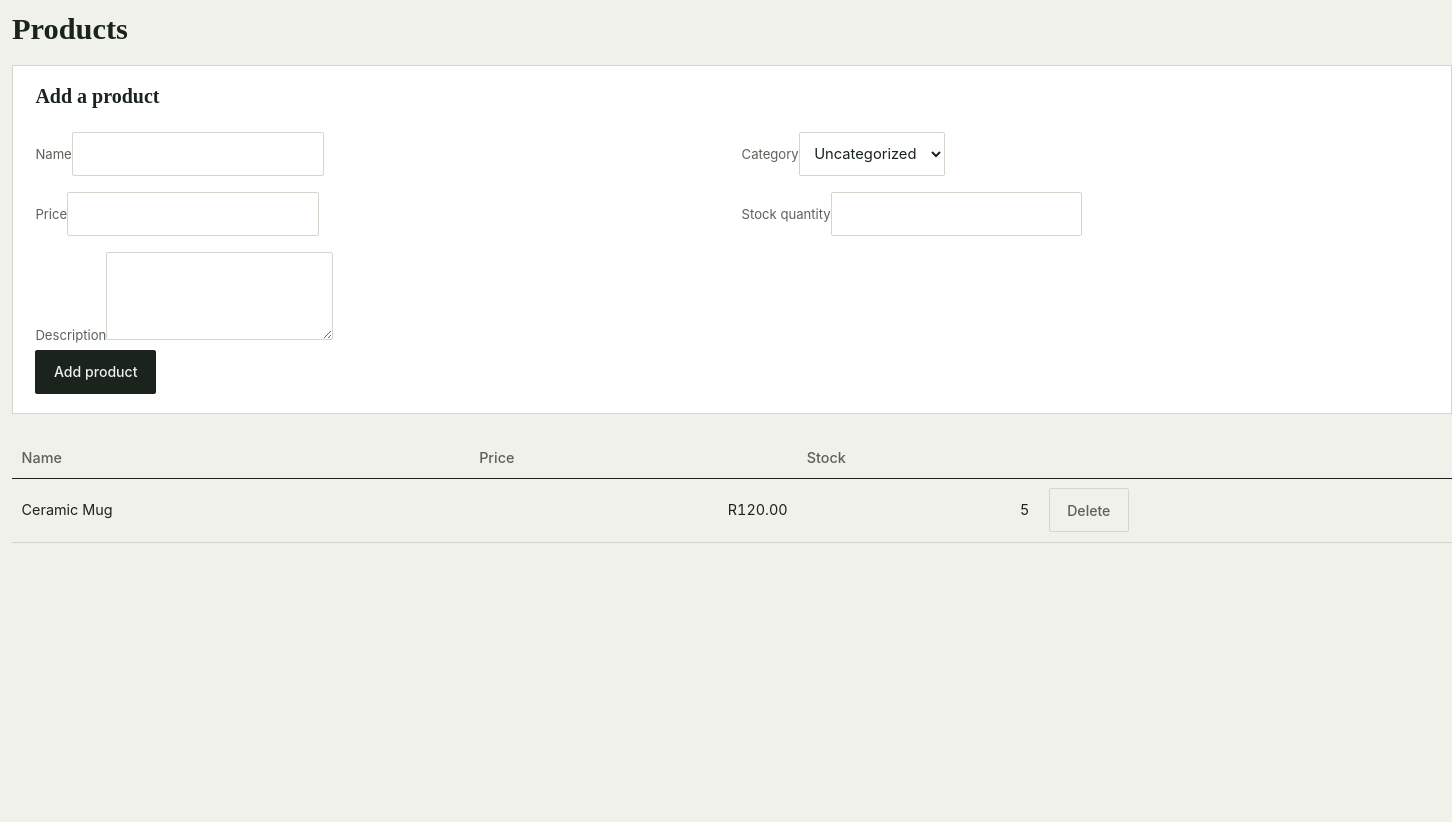
AdminProductsPage creating a product › shows the backend rejection and keeps the entered values for correction
Expected: the text "Ceramic Mug" is shown, [12, 478, 470, 542]
Type "Enamel Bowl" into the field labelled "Name" at x=198, y=154, box [72, 132, 324, 176]
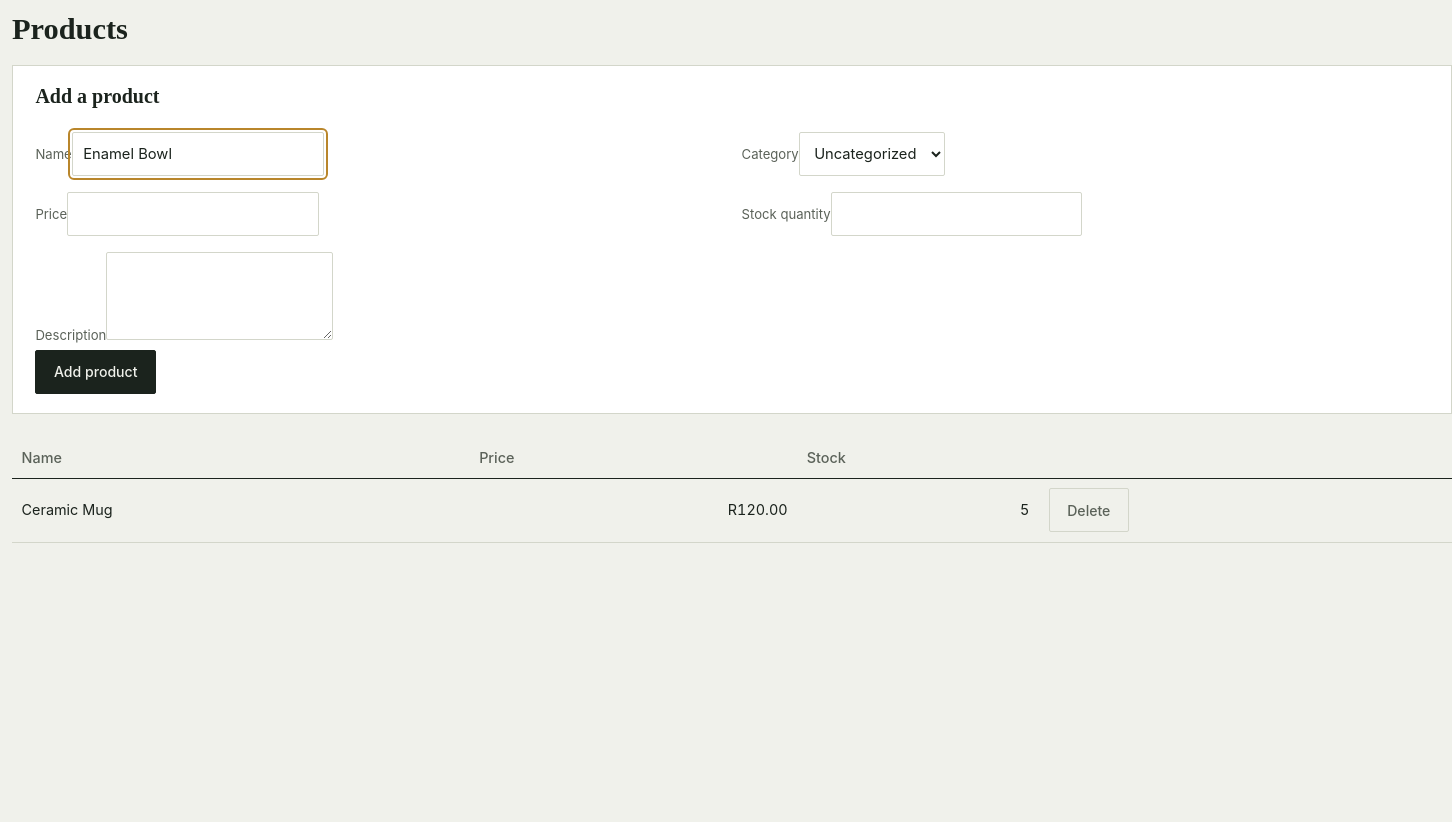
Type "95" into the number field labelled "Price" at x=193, y=214, box [67, 192, 319, 236]
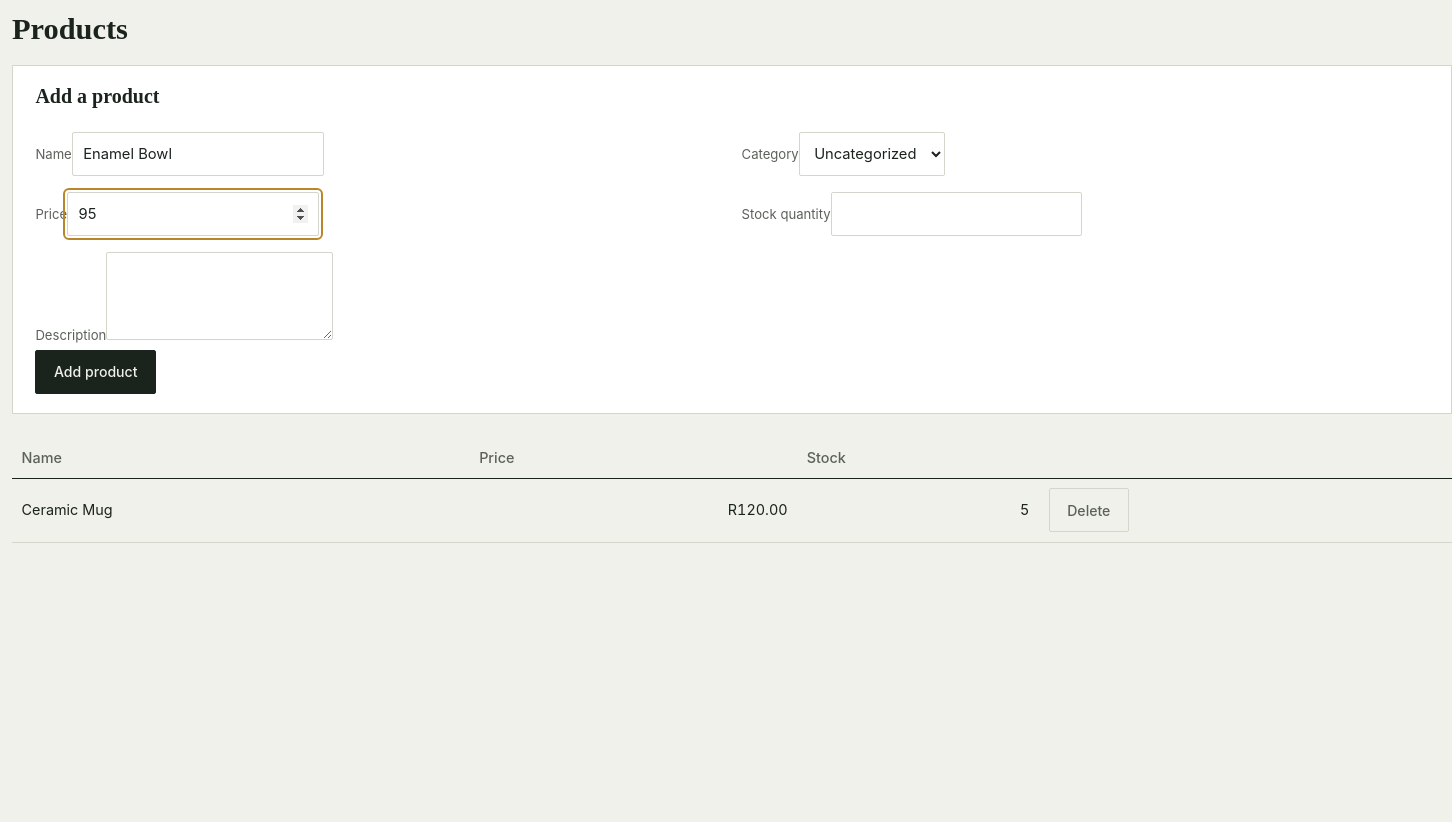
Type "12" into the number field labelled "Stock quantity" at x=957, y=214, box [831, 192, 1082, 236]
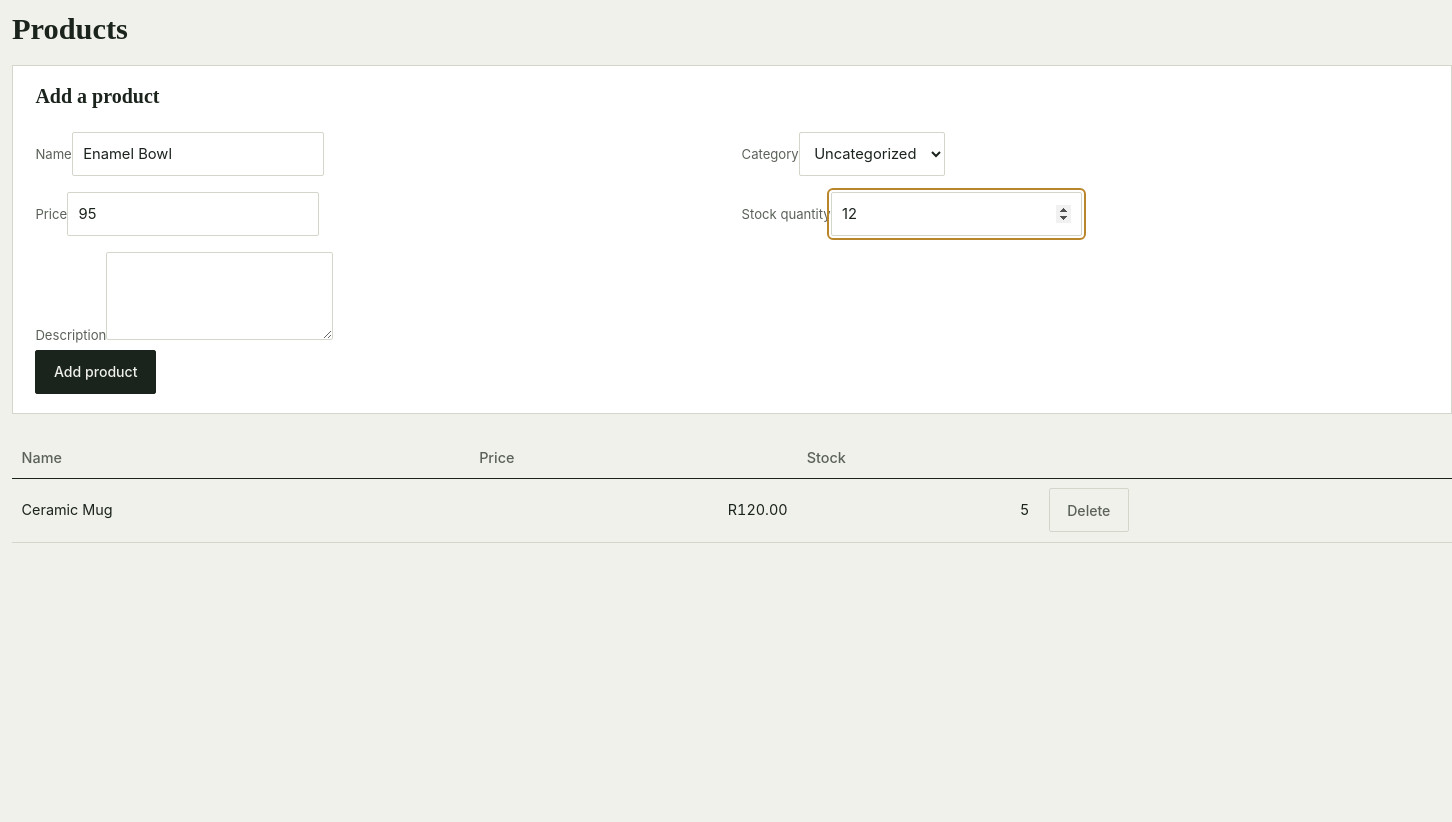
Click the button "Add product" at x=96, y=372, box [35, 350, 156, 394]
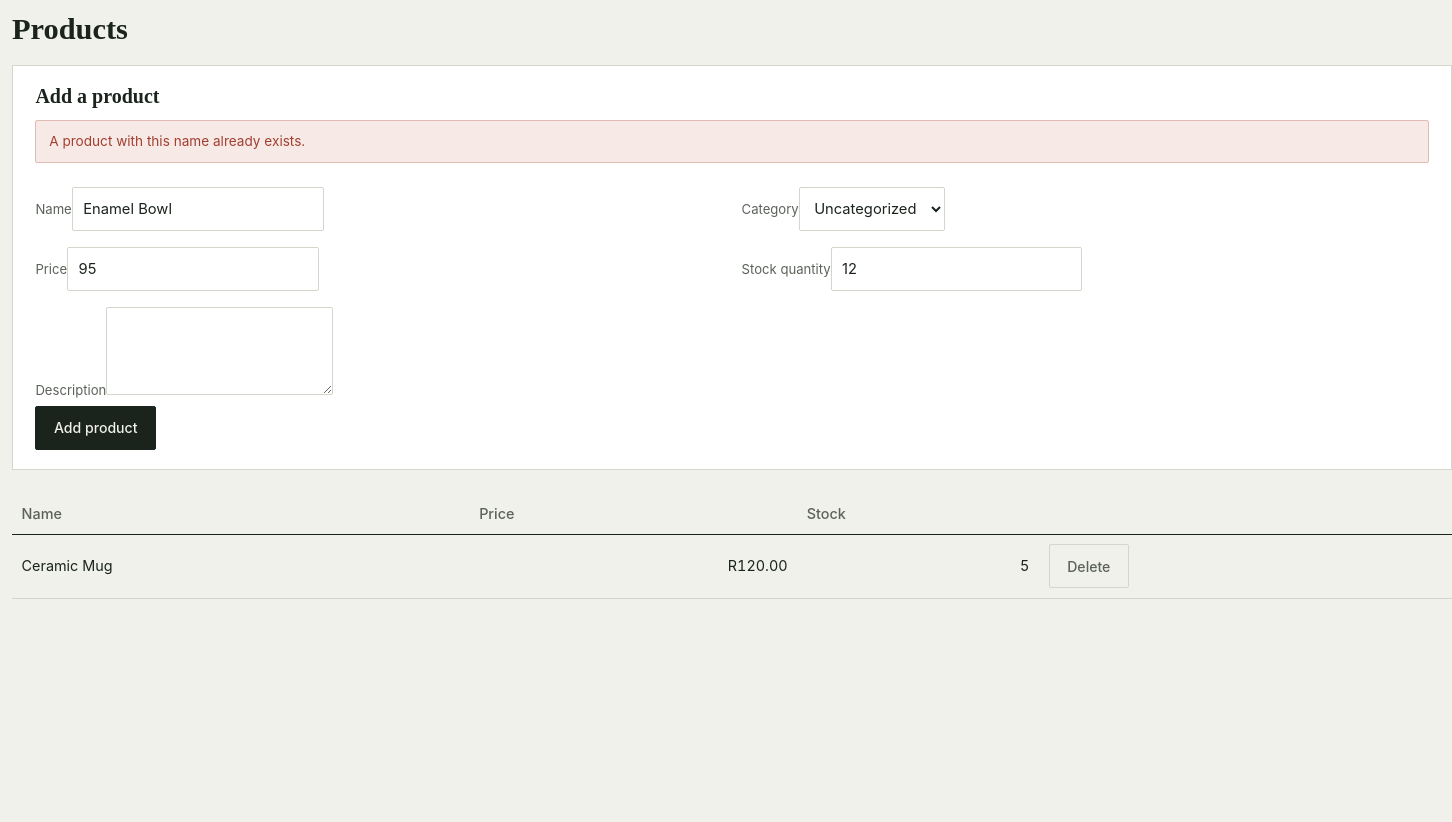
Expected: the message reads "A product with this name already exists.", [49, 133, 305, 149]
